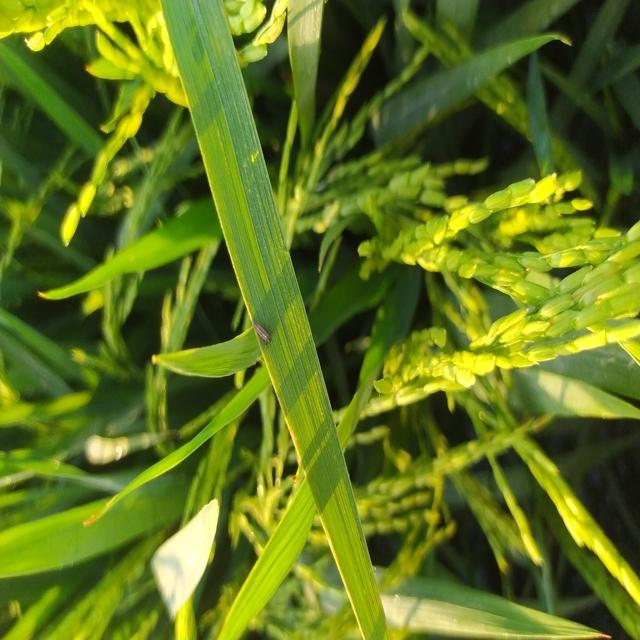healthy: (244, 314, 282, 349)
